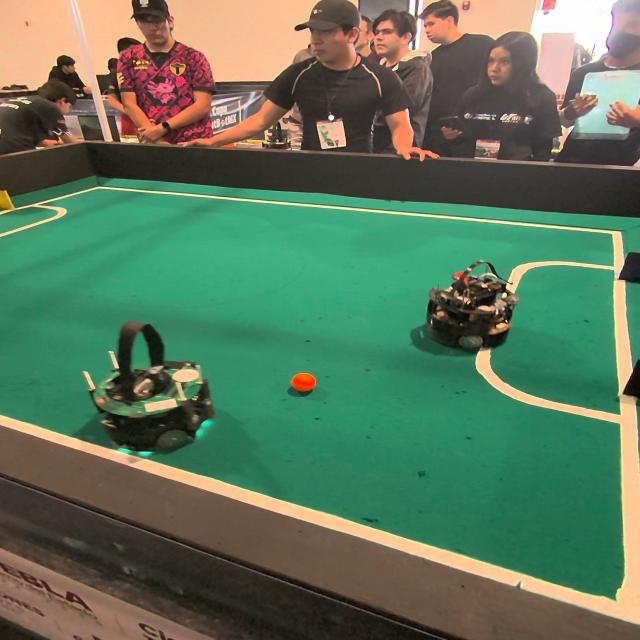Robot: (82, 309, 230, 462), (426, 264, 522, 358)
pelota: (288, 374, 316, 396)
